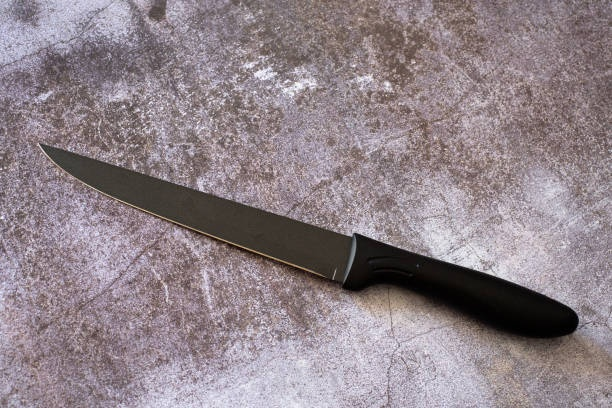knife: (37, 141, 581, 337)
